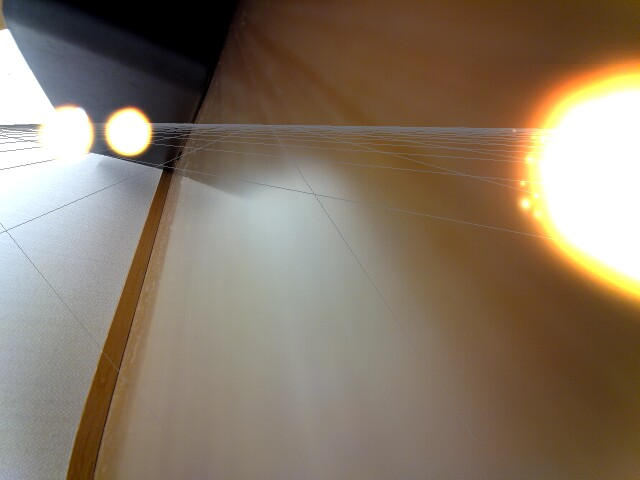firebig: (515, 49, 640, 309)
